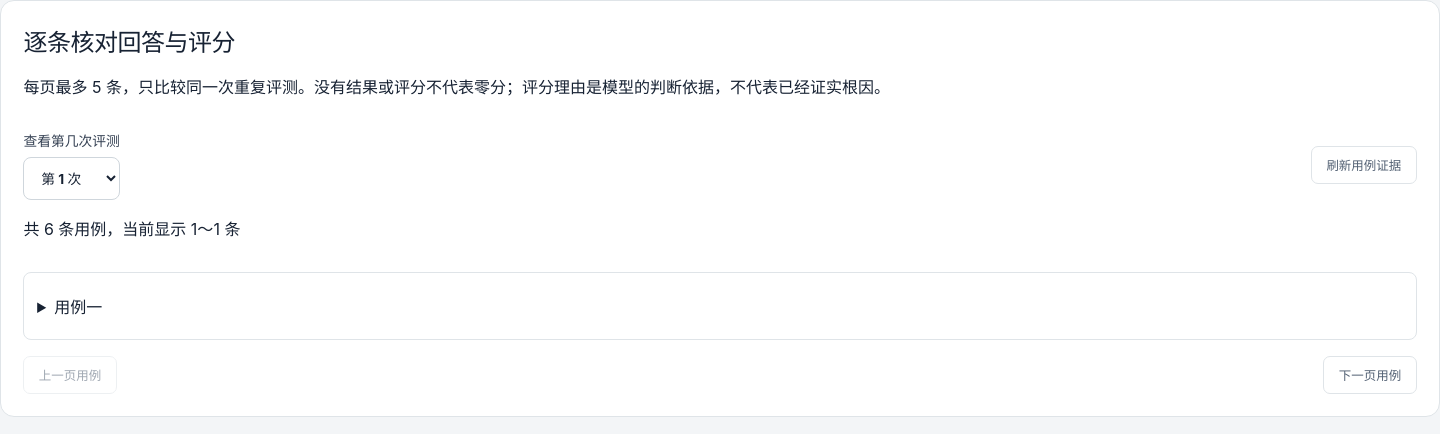
Test: case evidence inspection › pages by case, resets the page on repetition changes and removes stale evidence
Expected: the heading "用例一" is shown, [54, 297, 102, 317]
Expected: the button "上一页用例" is disabled, [23, 356, 116, 394]
Click the button "下一页用例": (1370, 375) [1324, 356, 1417, 394]
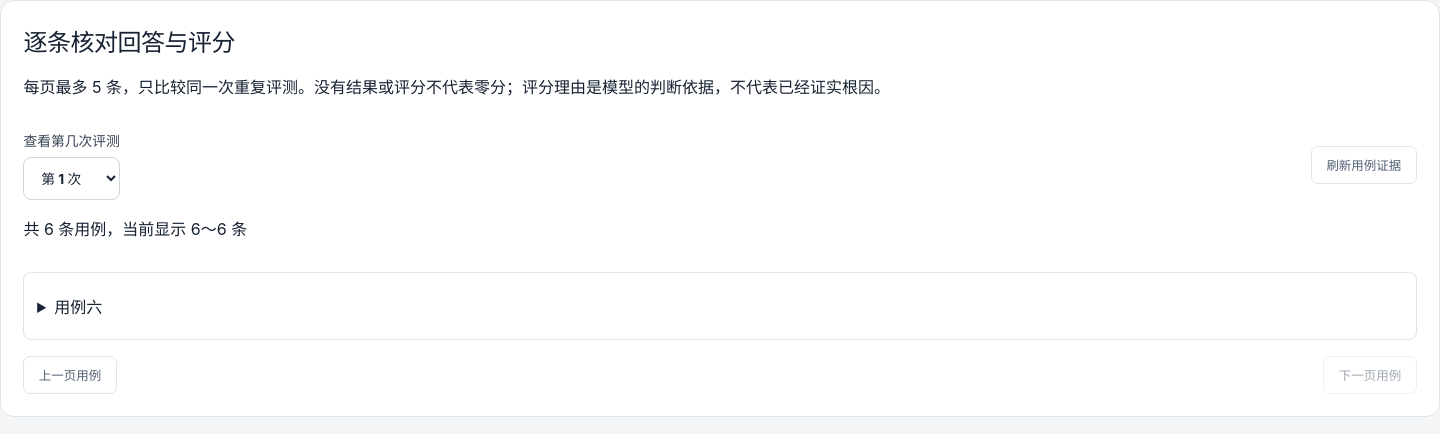
Expected: the heading "用例六" is shown, [54, 297, 102, 317]
Expected: the heading "用例一" is gone
Select "第 2 次" in the dropdown labelled "查看第几次评测": (72, 179) [23, 157, 120, 200]
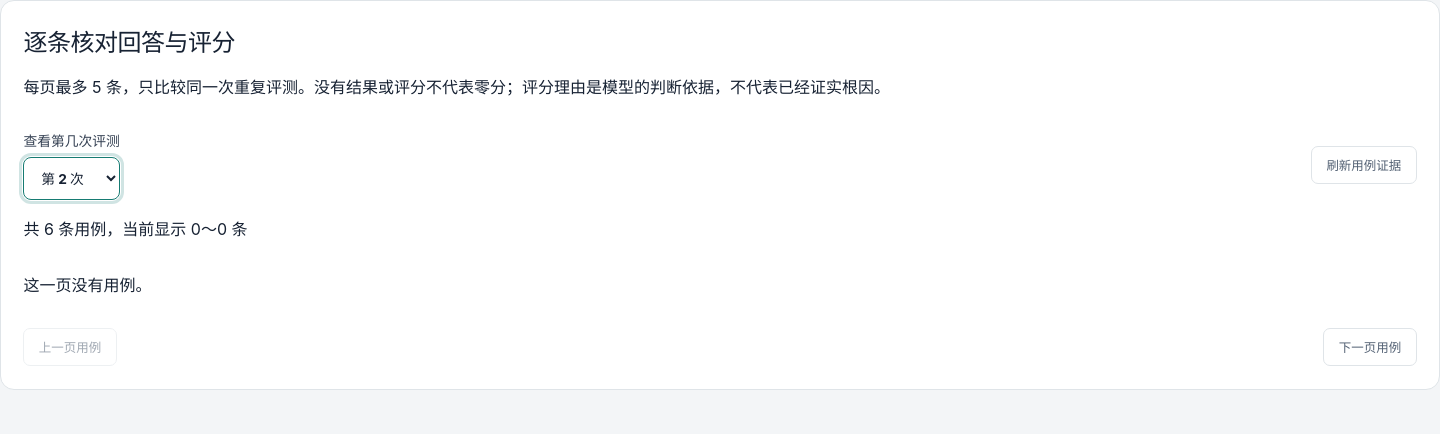
Expected: the text "这一页没有用例。" is shown, [23, 275, 151, 295]
Expected: the heading "用例六" is gone
